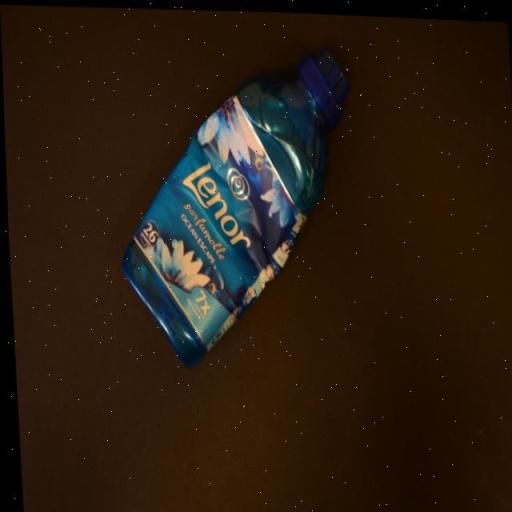plastic: (110, 34, 362, 372)
